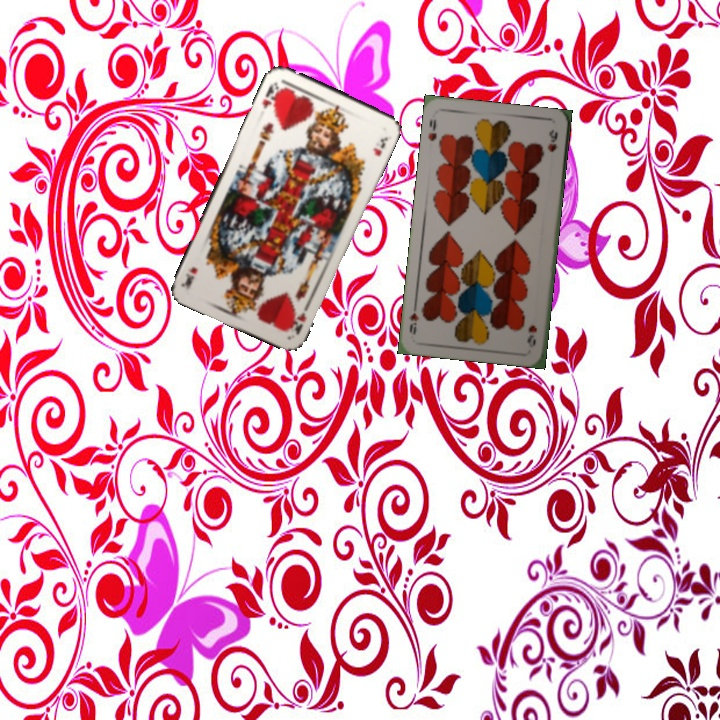H9: (523, 321, 539, 350), (424, 115, 439, 144)
HK: (287, 299, 313, 337), (257, 78, 284, 111)
